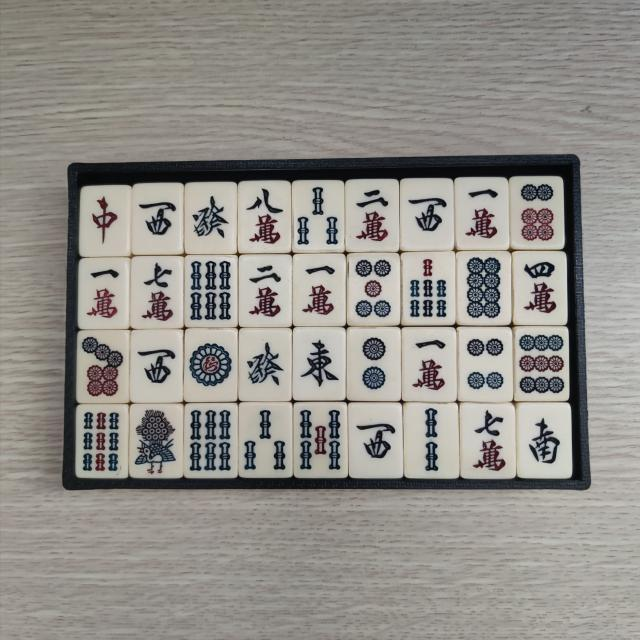hdg: (244, 333, 290, 396), (188, 186, 232, 249)
hdr: (86, 188, 125, 252)
hwe: (297, 332, 342, 396)
hws: (521, 408, 565, 474)
hww: (352, 410, 397, 474), (405, 183, 450, 246), (134, 334, 178, 397), (136, 187, 178, 249)
sb1: (134, 409, 180, 477)
sb2: (409, 408, 454, 476)
sb3: (297, 183, 344, 248), (241, 406, 286, 472)
sb5: (296, 408, 342, 474)
sb6: (188, 407, 234, 474), (189, 258, 234, 323)
sb7: (406, 256, 450, 322)
sb9: (80, 409, 124, 475)
sc1: (82, 260, 126, 324), (407, 333, 451, 397), (461, 180, 505, 243), (298, 258, 340, 321)
sc2: (350, 183, 394, 247), (245, 259, 289, 322)
sc4: (520, 257, 564, 321)
sc7: (466, 408, 511, 474), (137, 260, 180, 324)
sc8: (244, 184, 288, 248)
sd1: (188, 333, 234, 397)
sd2: (352, 332, 398, 397)
sd4: (464, 332, 509, 398)
sd5: (353, 258, 397, 322)
sd6: (517, 182, 559, 246)
sd7: (81, 334, 126, 399)
sd8: (463, 256, 506, 322)
sd9: (518, 330, 568, 396)
